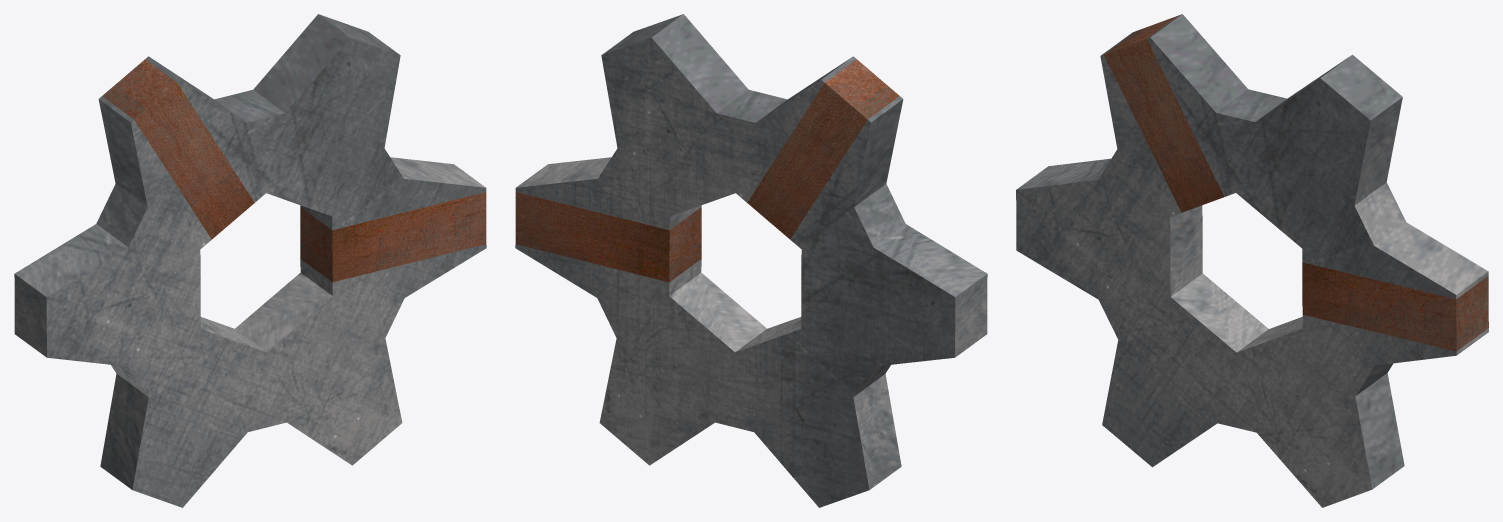
The model's file is Gear1.fbx.
The picture shows the model from 3 angles, left to right: view 1: azimuth 30°, elevation 25°; view 2: azimuth 150°, elevation 25°; view 3: azimuth 330°, elevation 25°; orthographic projection.
Visible parts, largest first — view 1: Gear1; view 2: Gear1; view 3: Gear1.
Part boxes in pixels (x1,y1,x2,y2): Gear1: (14, 14, 486, 507); Gear1: (515, 14, 987, 507); Gear1: (1016, 14, 1488, 507).
Bounding box in the file's own units: 184 × 172 × 23.35.
